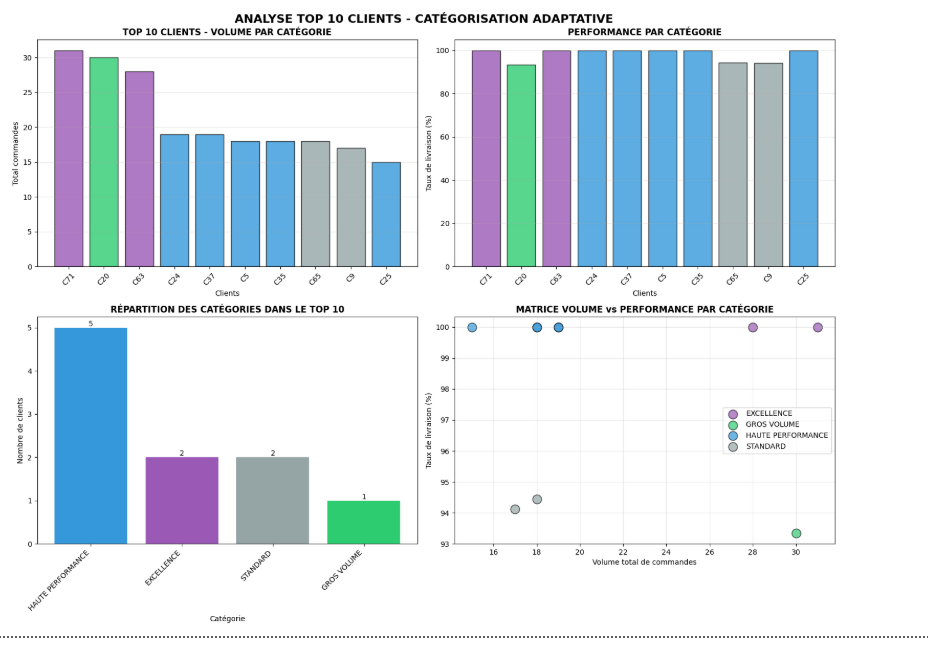

Layout of this report page (visuals, bound fields, positions):
{"tool":"powerbi","page":{"name":"Analyse TOP 10 CLIENTS","canvas":[1280,720],"ordinal":1},"visuals":[{"type":"pythonVisual","fields":{"Values":["Fait.id_seq_fait"]},"box":[10,0,280,280],"z":0},{"type":"pythonVisual","box":[100,100,300,300],"z":1000},{"type":"pythonVisual","fields":{"Values":["Fait.id_seqClient","Sum(Fait.nbr_commande_livrees)","Sum(Fait.nbr_commande_non_livrees)"]},"box":[0,0,1279.4,644.6],"z":2000}]}

Visuals, with their boxes on the page's 1280x720 design canvas (x1, y1, x2, y2). These are canvas units, not pixel positions in the 928x648 screenshot, which may show the page scaled, cropped or inside an application window:
pythonVisual - Fait.id_seq_fait: [10, 0, 290, 280]
pythonVisual: [100, 100, 400, 400]
pythonVisual - Fait.id_seqClient x Sum(Fait.nbr_commande_livrees): [0, 0, 1279, 645]
